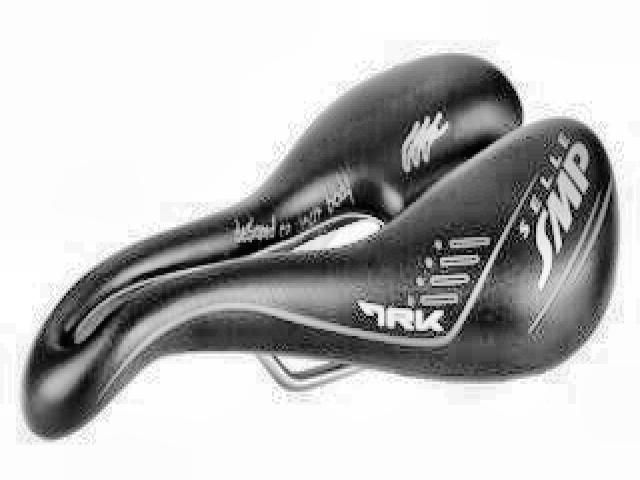saddle: (16, 48, 623, 463)
